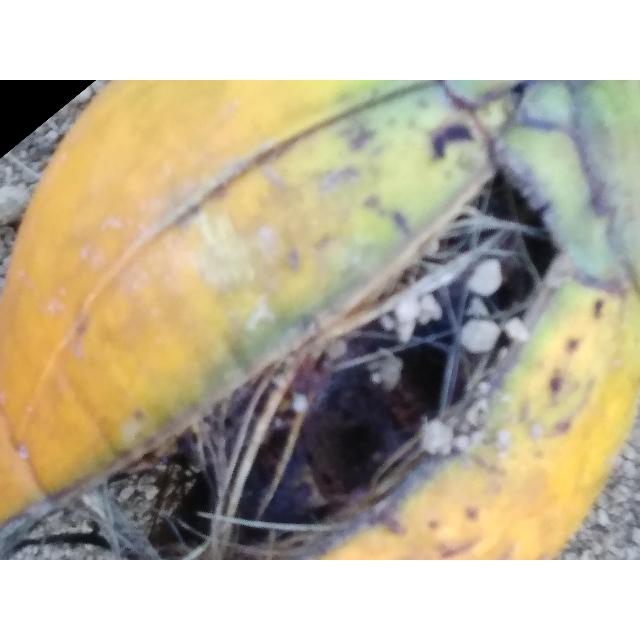damaged: (0, 80, 640, 560)
